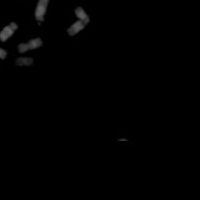chromosome: (66, 7, 89, 34), (17, 37, 42, 52), (0, 21, 17, 41), (34, 0, 48, 21), (15, 57, 35, 67), (0, 45, 6, 59)
